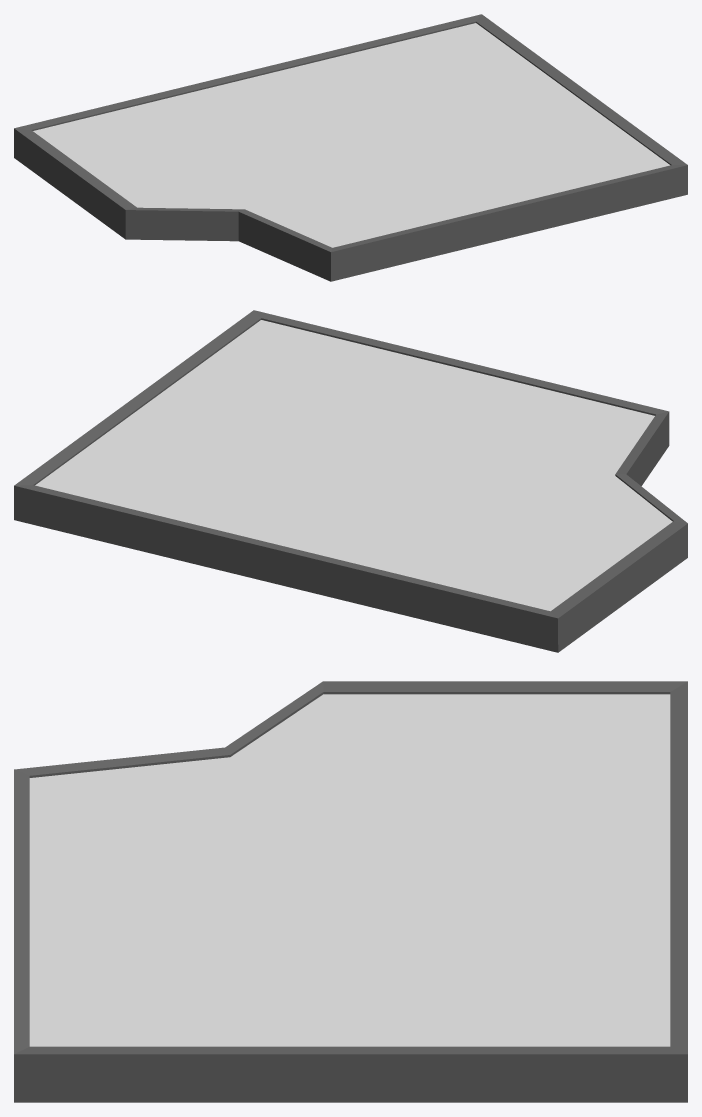
File: IDCard_v02.fbx
3 renders of one model, top to bottom at view 1: azimuth 30°, elevation 25°; view 2: azimuth 150°, elevation 25°; view 3: azimuth 270°, elevation 25°, orthographic. The views are drawn at different scales.
Parts seen in each view (by area): view 1: Glass, Body; view 2: Glass, Body; view 3: Glass, Body.
Part boxes in pixels (<box>): Glass: <box>33,23,669,247</box>; Body: <box>14,14,687,281</box>; Glass: <box>35,320,672,611</box>; Body: <box>14,310,687,652</box>; Glass: <box>29,694,670,1046</box>; Body: <box>14,681,687,1102</box>.
Bounding box in the file's own units: 27.56 × 1.67 × 21.04.
